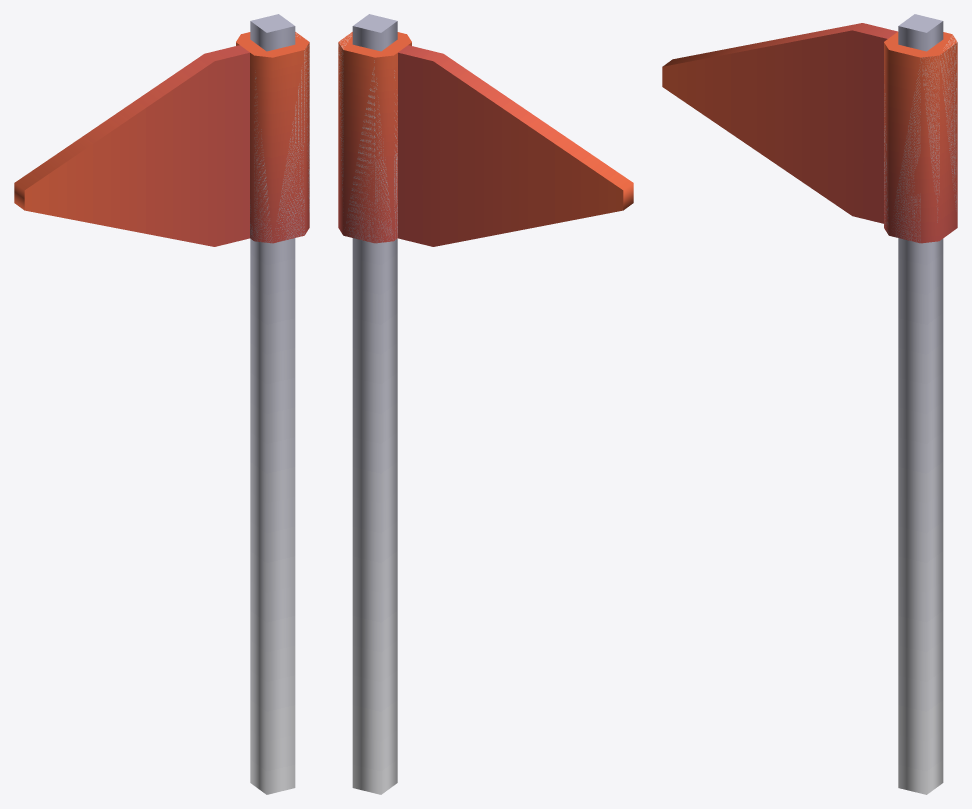
File: sport_golf_flag.glb
3 renders of one model, left to right at view 1: azimuth 30°, elevation 25°; view 2: azimuth 150°, elevation 25°; view 3: azimuth 330°, elevation 25°, orthographic.
Visible parts, largest first — view 1: flag-red; view 2: flag-red; view 3: flag-red.
Part boxes in pixels (x1,y1,x2,y2): flag-red: (14,14,309,794); flag-red: (338,14,633,794); flag-red: (662,14,957,794).
Size of the model in its own units: 0.3955 by 1.02 by 0.0781.
1 material, 1 textured.
